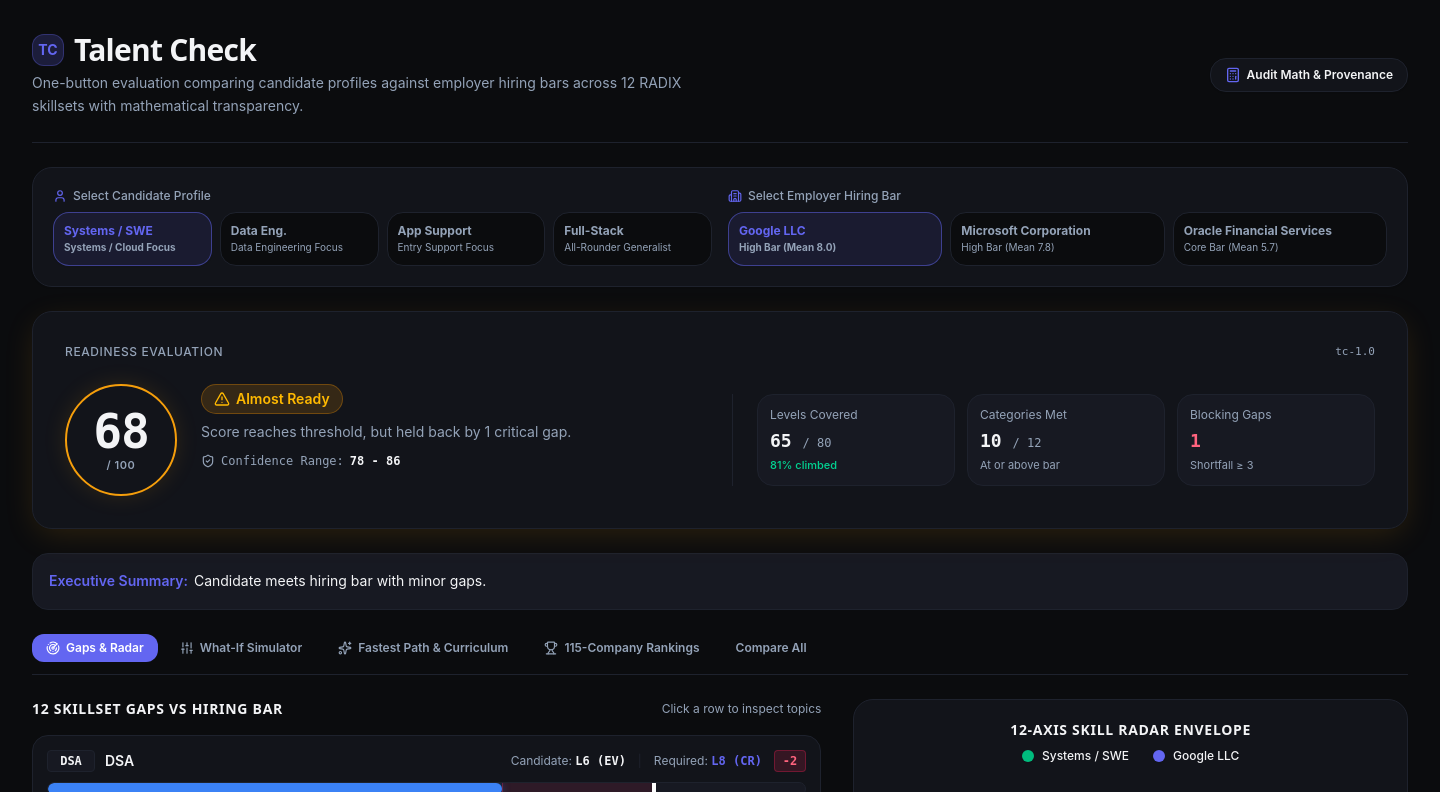
Test: Talent Check UI Components › TalentCheckPage renders with full interactivity and tab switching
The image size is (1440, 792).
Expected: the heading "Talent Check" is shown, x1=74 y1=32 x2=256 y2=68
Expected: the text "68" is shown, x1=93 y1=407 x2=149 y2=455
Open math drawer
Click the button "Audit Math & Provenance" at (1309, 75), box x1=1210 y1=58 x2=1408 y2=92
(page scrolled)
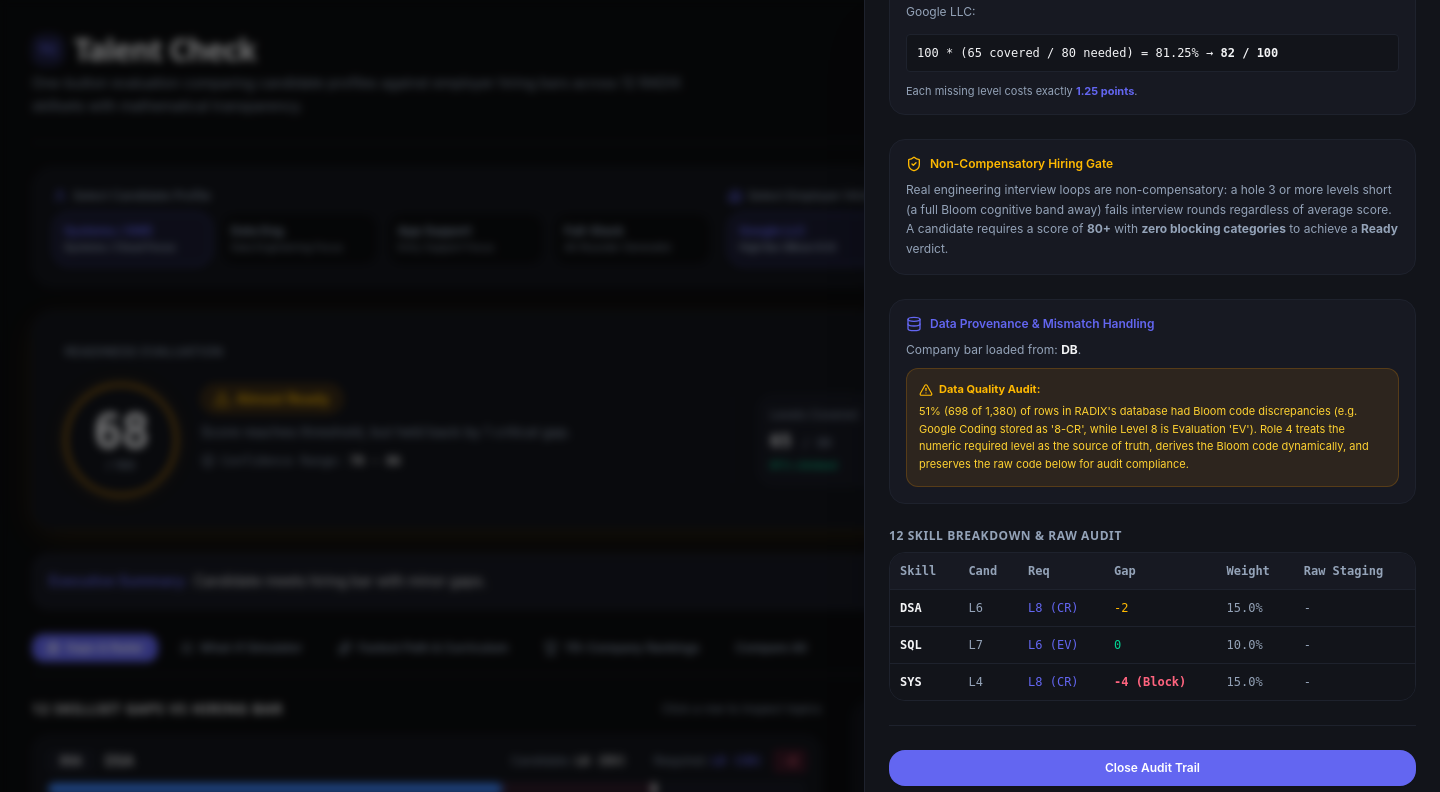
Close math drawer
Click the button "Close Audit Trail" at (1152, 768), box x1=889 y1=750 x2=1416 y2=786
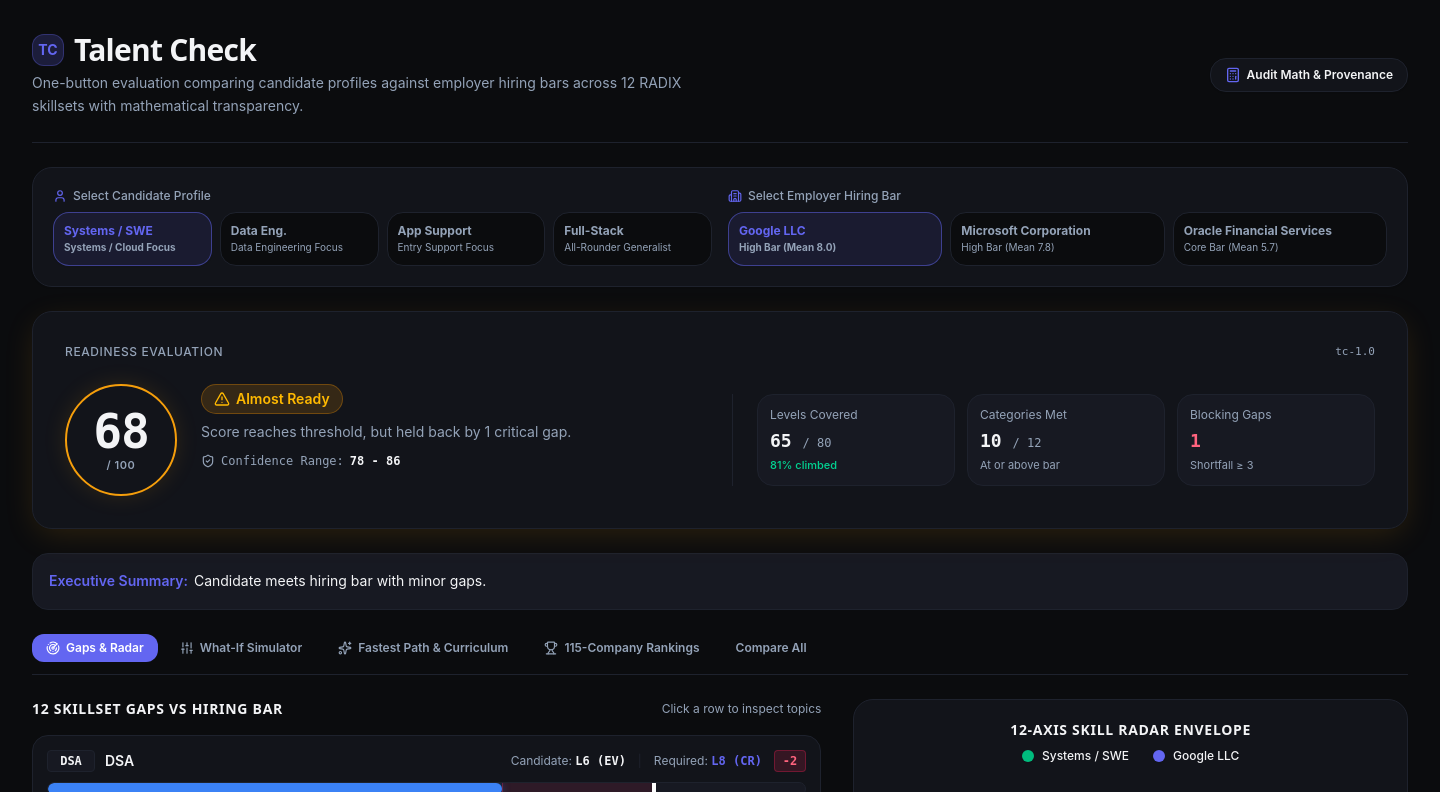
Switch to what-if tab
Click the button "What-If Simulator" at (241, 648), box x1=166 y1=634 x2=316 y2=662
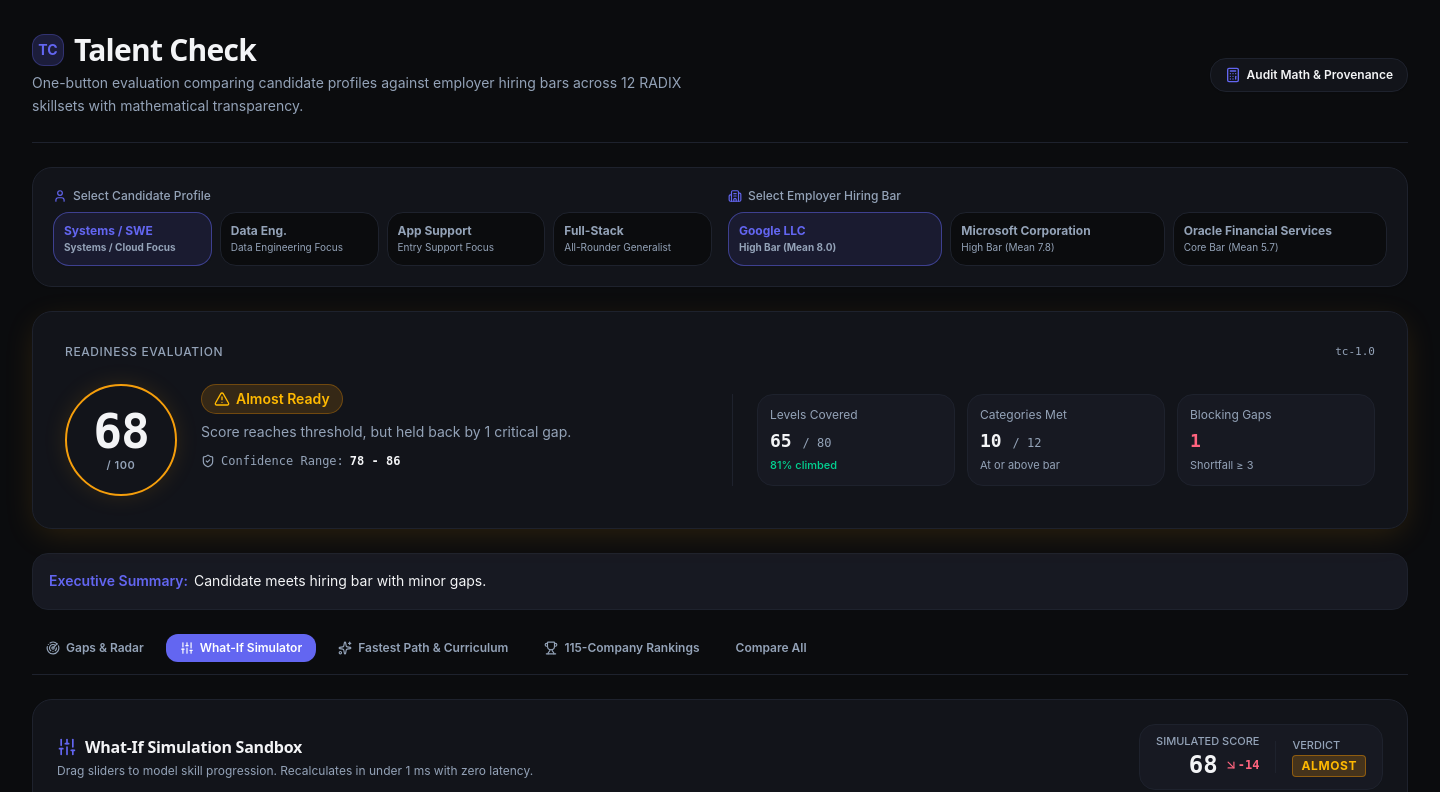
Result: the heading "What-If Simulation Sandbox" is shown at x1=85 y1=735 x2=302 y2=759
Switch to study tab
Click the button "Fastest Path & Curriculum" at (423, 648), box x1=324 y1=634 x2=522 y2=662
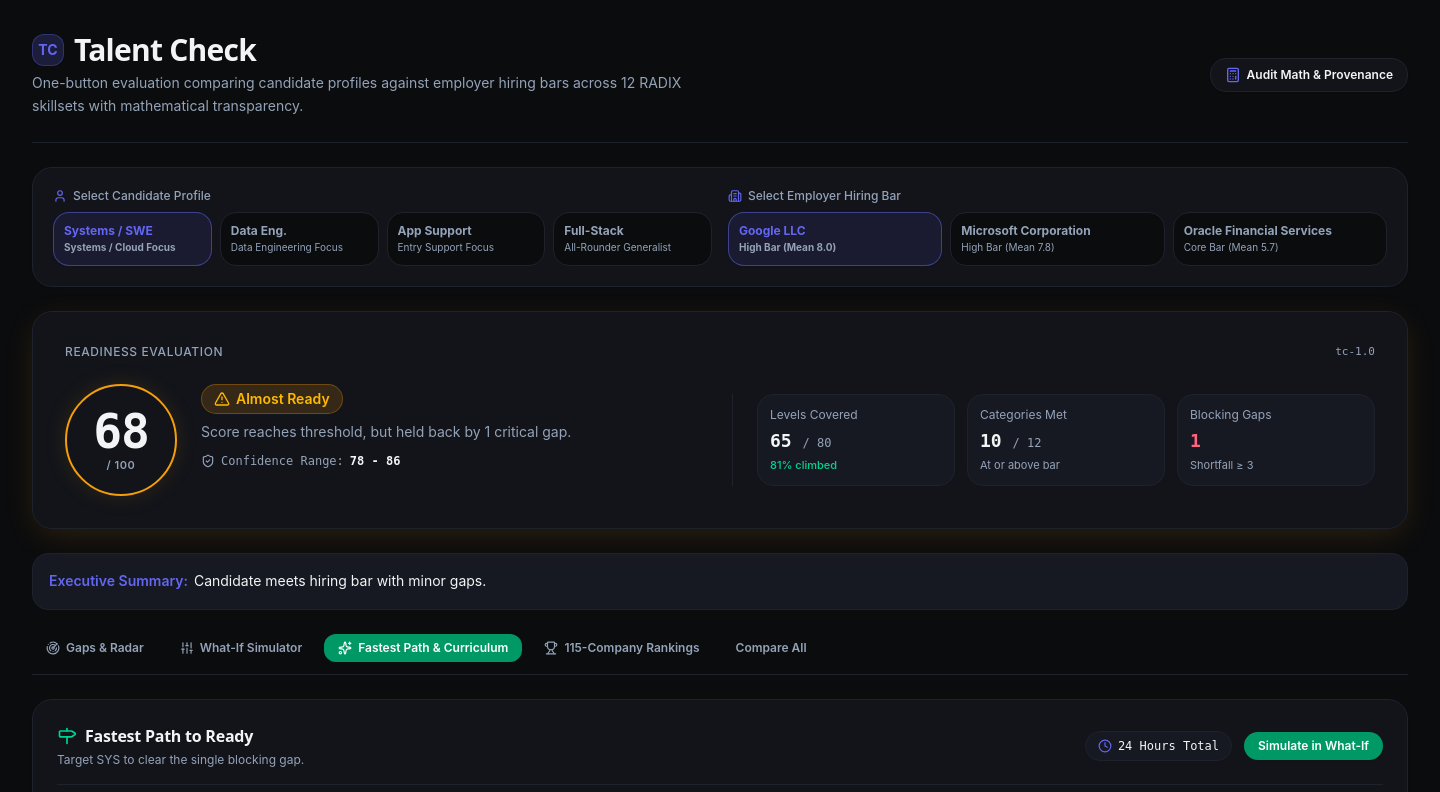
Result: the heading "Fastest Path to Ready" is shown at x1=85 y1=724 x2=253 y2=748
Switch to ranking tab
Click the button "115-Company Rankings" at (622, 648), box x1=530 y1=634 x2=714 y2=662
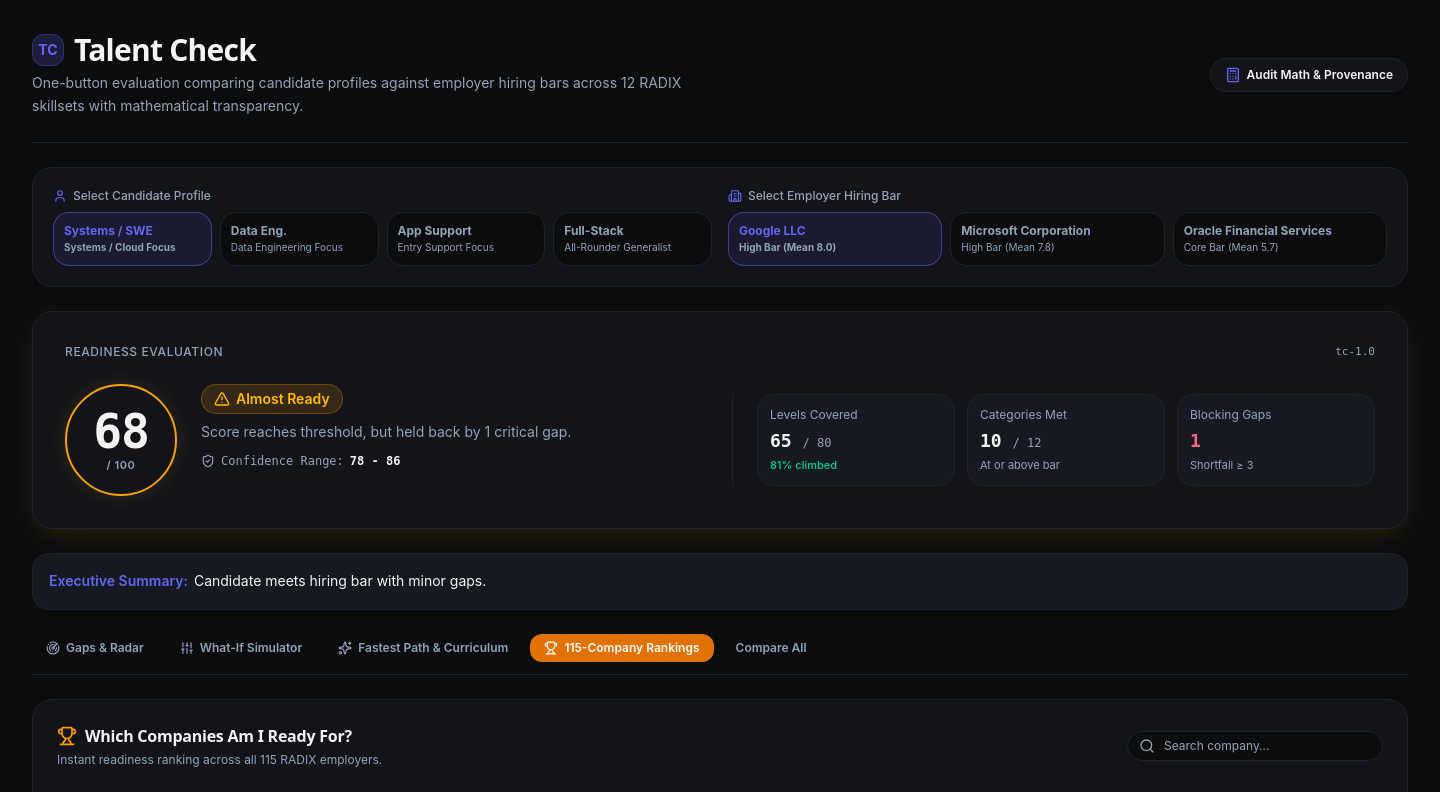
Result: the heading "Which Companies Am I Ready For?" is shown at x1=85 y1=724 x2=352 y2=748
Switch to matrix tab
Click the button "Compare All" at (771, 648), box x1=722 y1=634 x2=821 y2=662
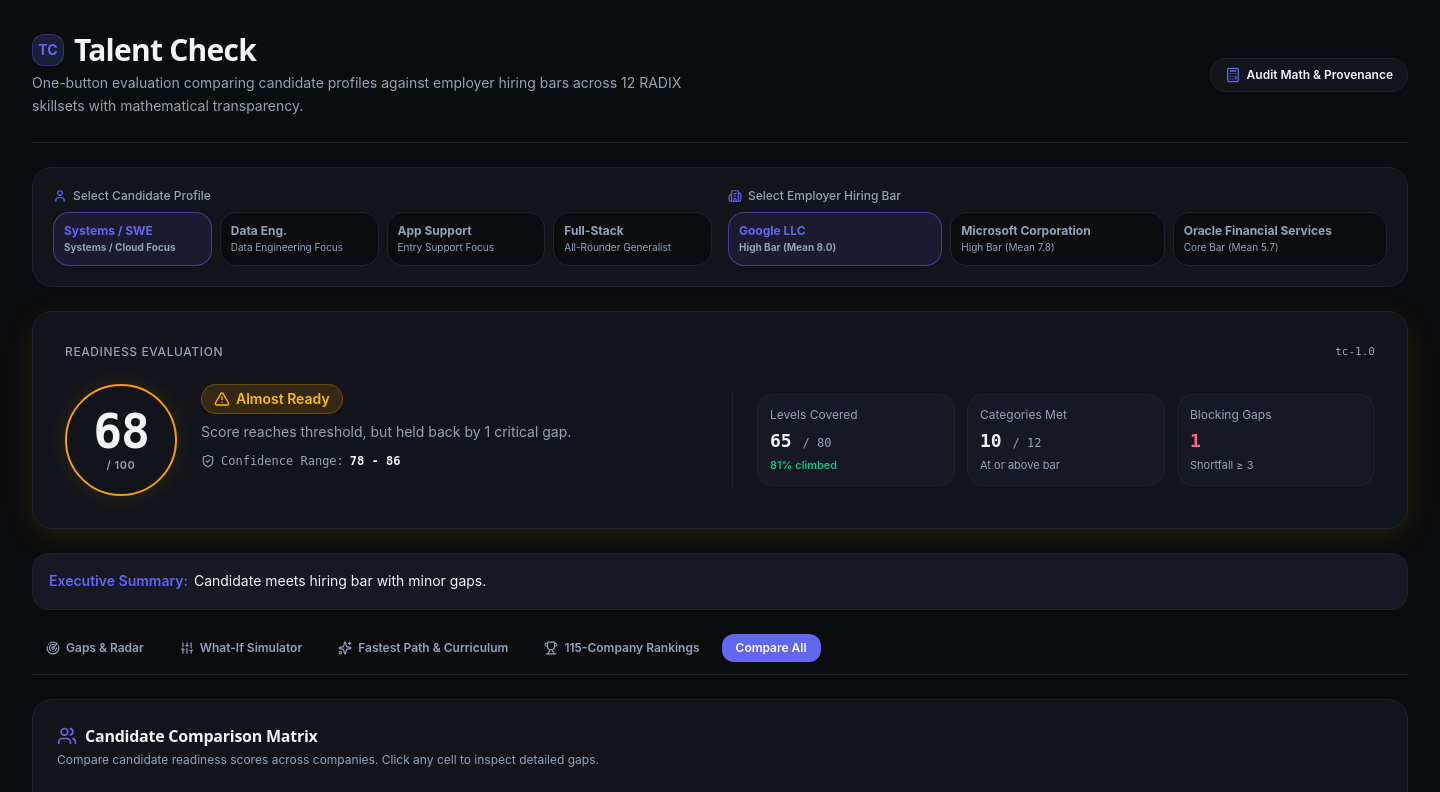
Result: the heading "Candidate Comparison Matrix" is shown at x1=57 y1=725 x2=318 y2=747
